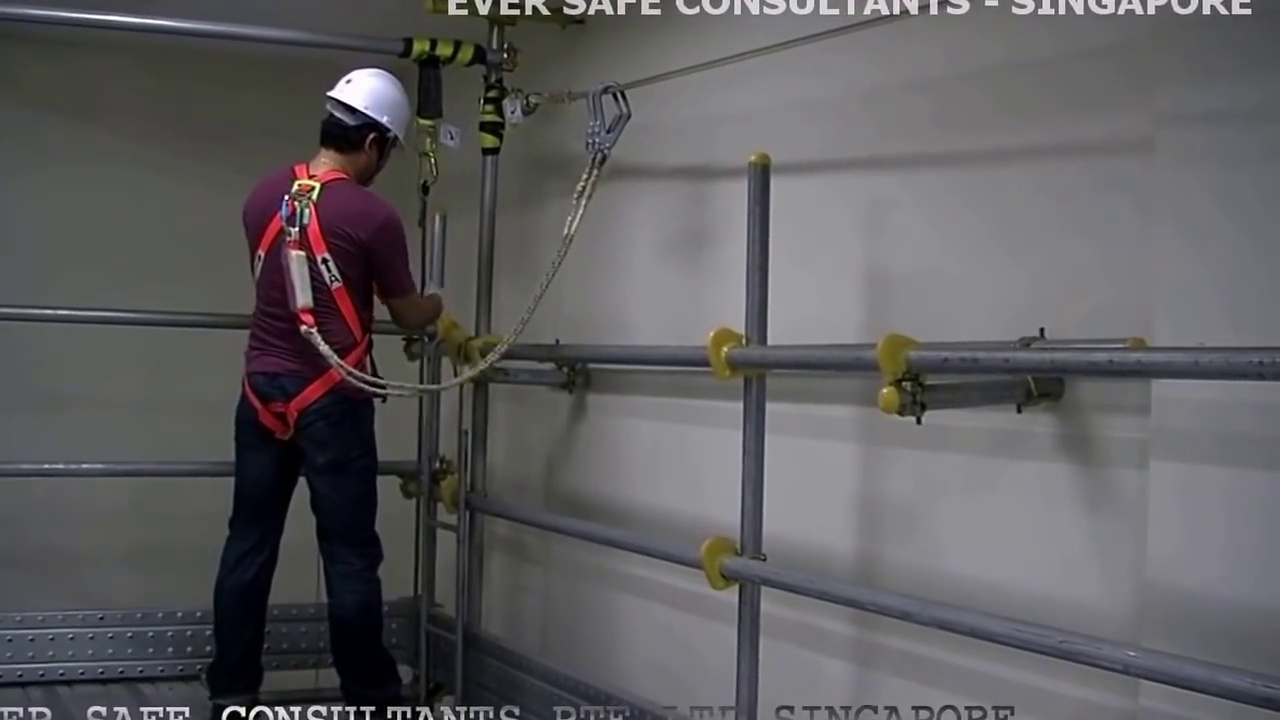harness: (250, 165, 353, 424)
helmet: (319, 61, 410, 139)
hook: (578, 84, 644, 161)
leash: (460, 185, 593, 388)
